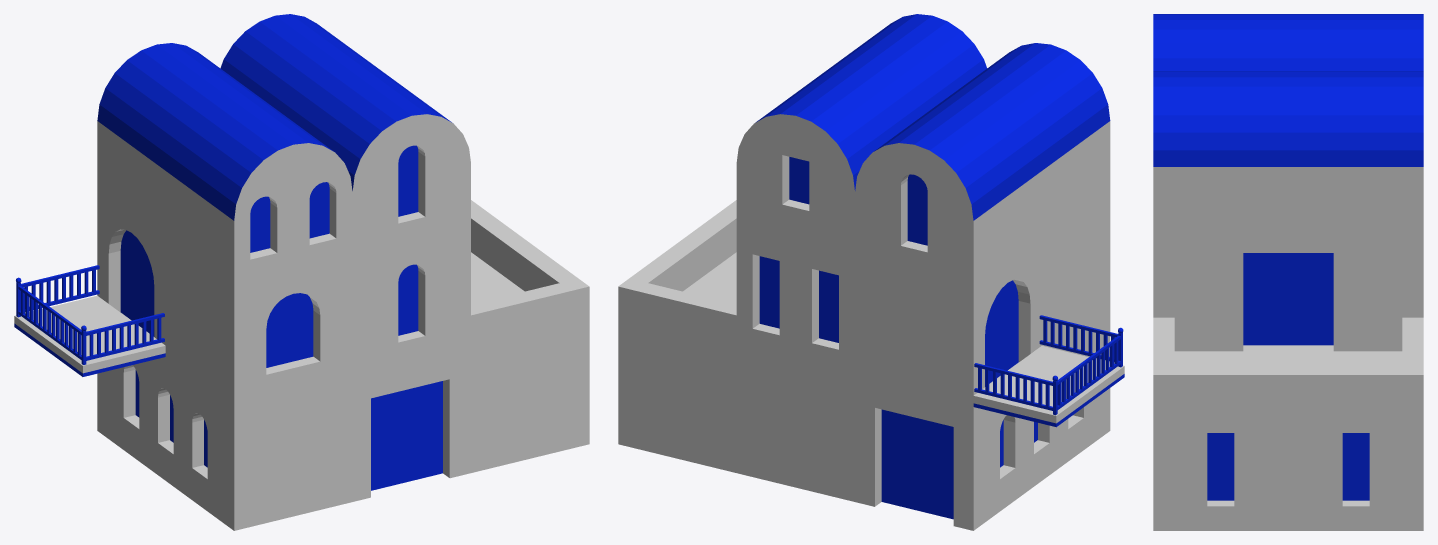
The model's file is SM_Module1_001.fbx.
The picture shows the model from 3 angles, left to right: view 1: azimuth 30°, elevation 25°; view 2: azimuth 150°, elevation 25°; view 3: azimuth 270°, elevation 25°; orthographic projection.
Parts seen in each view (by area): view 1: 2WF1WB.002, 3WS1DB.001, 1WF1WB.008, 1WF1DS.002, 2WS.001, 1WF1DS2WB.001, Terrasse.002, 1DF.002, Door.003, Balcon.004, Window1.002, Door2.038 (+7 smaller); view 2: 2WF1WB.002, 1WF1WB.008, 1WF1DS.002, 3WS1DB.001, 2WS.001, 1DF.002, 1WF1DS2WB.001, Terrasse.002, Door.056, Balcon.004, WIndow2.031, Door2.038 (+5 smaller); view 3: 1WF1WB.008, 2WS.001, 1WF1DS2WB.001, Terrasse.002, 2WF1WB.002, Door.016, WIndow2.110, WIndow2.111, 1DF.002.
Boxes of the visible parts, box(x1,y1,x2,y2) form: 2WF1WB.002: box(97, 43, 352, 282); 3WS1DB.001: box(97, 313, 352, 530); 1WF1WB.008: box(220, 14, 470, 253); 1WF1DS.002: box(97, 183, 352, 406); 2WS.001: box(471, 320, 589, 472); 1WF1DS2WB.001: box(352, 225, 470, 377); Terrasse.002: box(471, 200, 589, 348); 1DF.002: box(352, 349, 470, 501); Door.003: box(371, 381, 442, 490); Balcon.004: box(14, 295, 165, 376); Window1.002: box(266, 293, 313, 367); Door2.038: box(120, 230, 154, 336); 2WF1WB.002: box(855, 43, 1110, 282); 1WF1WB.008: box(736, 14, 987, 253); 1WF1DS.002: box(855, 183, 1110, 406); 3WS1DB.001: box(855, 307, 1110, 530); 2WS.001: box(618, 320, 736, 472); 1DF.002: box(736, 349, 854, 501); 1WF1DS2WB.001: box(736, 225, 854, 377); Terrasse.002: box(618, 200, 736, 348); Door.056: box(881, 409, 953, 519); Balcon.004: box(973, 346, 1124, 427); WIndow2.031: box(759, 256, 838, 342); Door2.038: box(985, 280, 1018, 386); 1WF1WB.008: box(1153, 71, 1423, 228); 2WS.001: box(1153, 408, 1423, 530); 1WF1DS2WB.001: box(1153, 228, 1423, 351); Terrasse.002: box(1153, 317, 1423, 408); 2WF1WB.002: box(1153, 14, 1423, 71); Door.016: box(1243, 253, 1333, 345); WIndow2.110: box(1207, 433, 1234, 500); WIndow2.111: box(1342, 433, 1369, 500); 1DF.002: box(1243, 345, 1333, 351).
Bounding box in the file's own units: 925 × 750 × 500.
